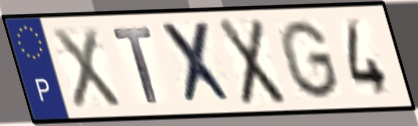4: (345, 17, 392, 97)
G: (276, 17, 343, 102)
T: (109, 24, 161, 106)
X: (156, 20, 239, 108), (214, 16, 289, 109), (48, 25, 125, 112)
